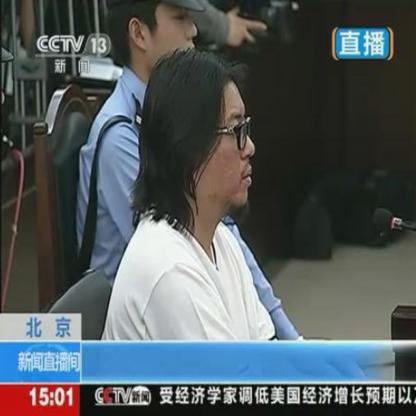face: (207, 80, 256, 203), (151, 4, 199, 79)
